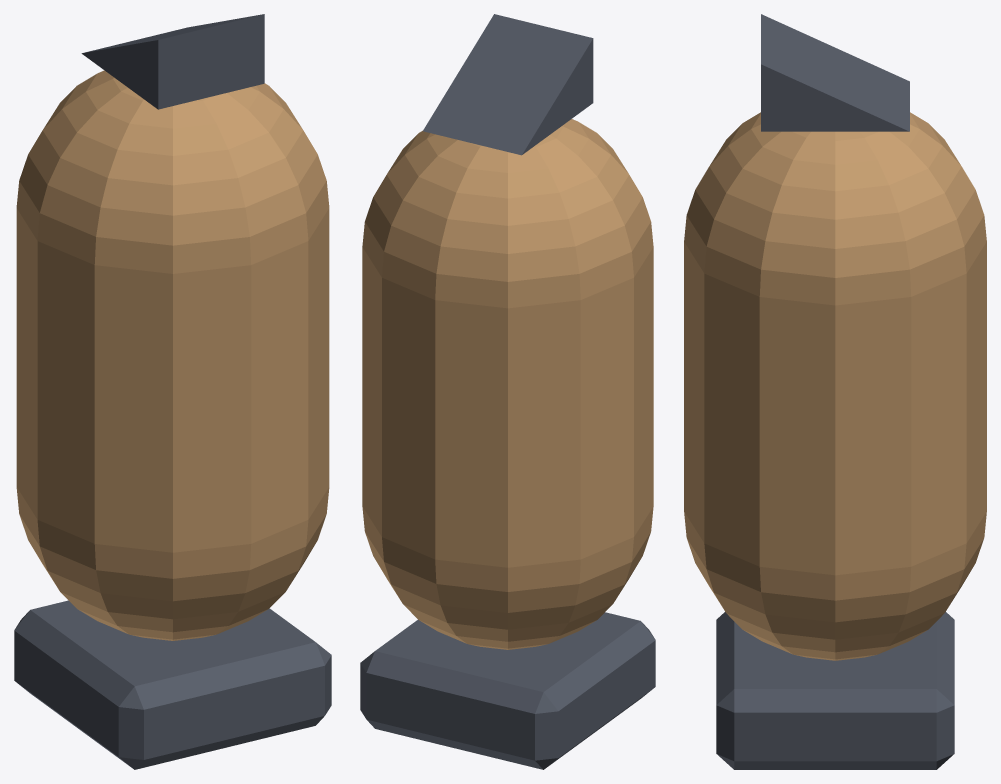
Rendered from demo-body.glb.
The picture shows the model from 3 angles, left to right: view 1: azimuth 30°, elevation 25°; view 2: azimuth 150°, elevation 25°; view 3: azimuth 270°, elevation 25°; orthographic projection. The views are drawn at different scales.
Visible parts, largest first — view 1: demo-body; view 2: demo-body; view 3: demo-body.
Boxes of the visible parts, bbox=[...] form: demo-body: bbox=[14, 14, 331, 769]; demo-body: bbox=[360, 14, 655, 769]; demo-body: bbox=[684, 14, 986, 769].
Size of the model in its own units: 1.02 by 2.55 by 1.02.
1 material, 1 textured.
